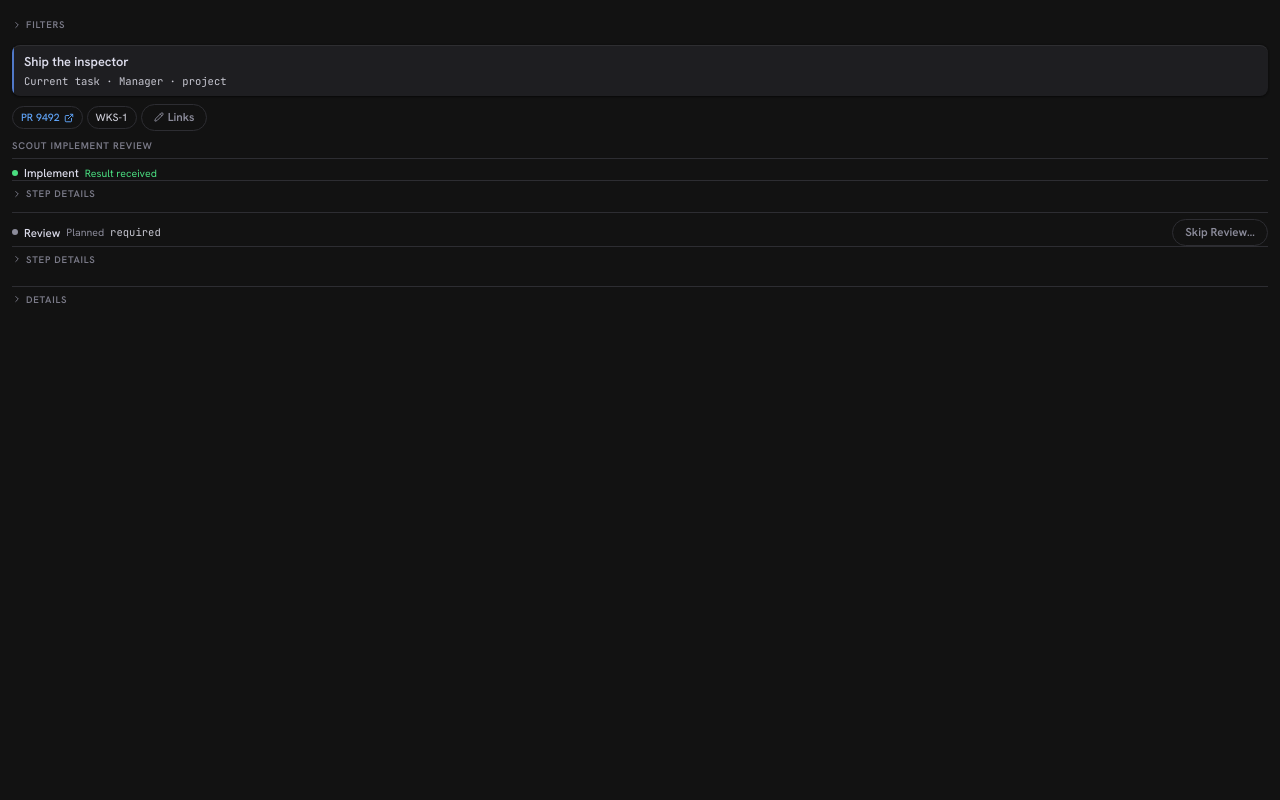
compact default view › renders references as chips and hides the editor until asked
The image size is (1280, 800).
Expected: the button "PR 9492" is shown, [12,106,83,129]
Expected: the text "WKS-1" is shown, [96,110,128,125]
Click the button "Links" at (174, 118), box [141,104,208,132]
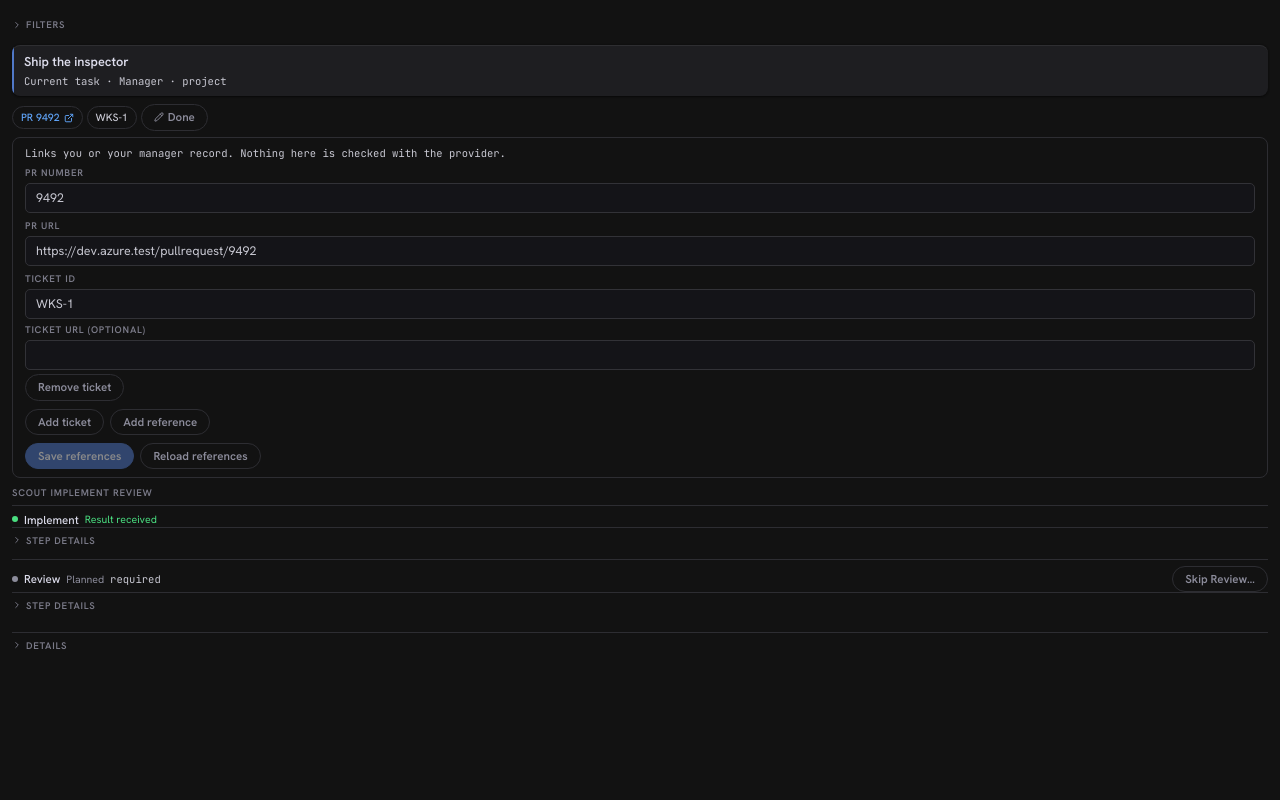
Now the field labelled "PR number" holds "9492", box [25,183,1255,213]
